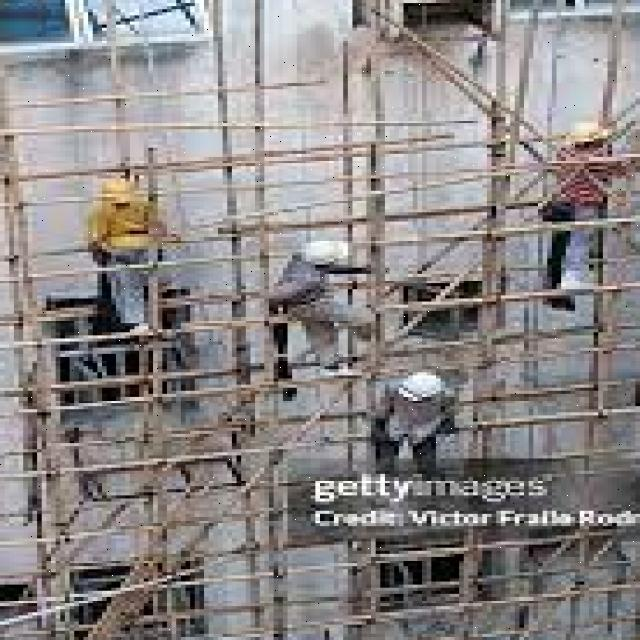Framing: (0, 92, 297, 640), (366, 197, 640, 440), (371, 547, 640, 640)
